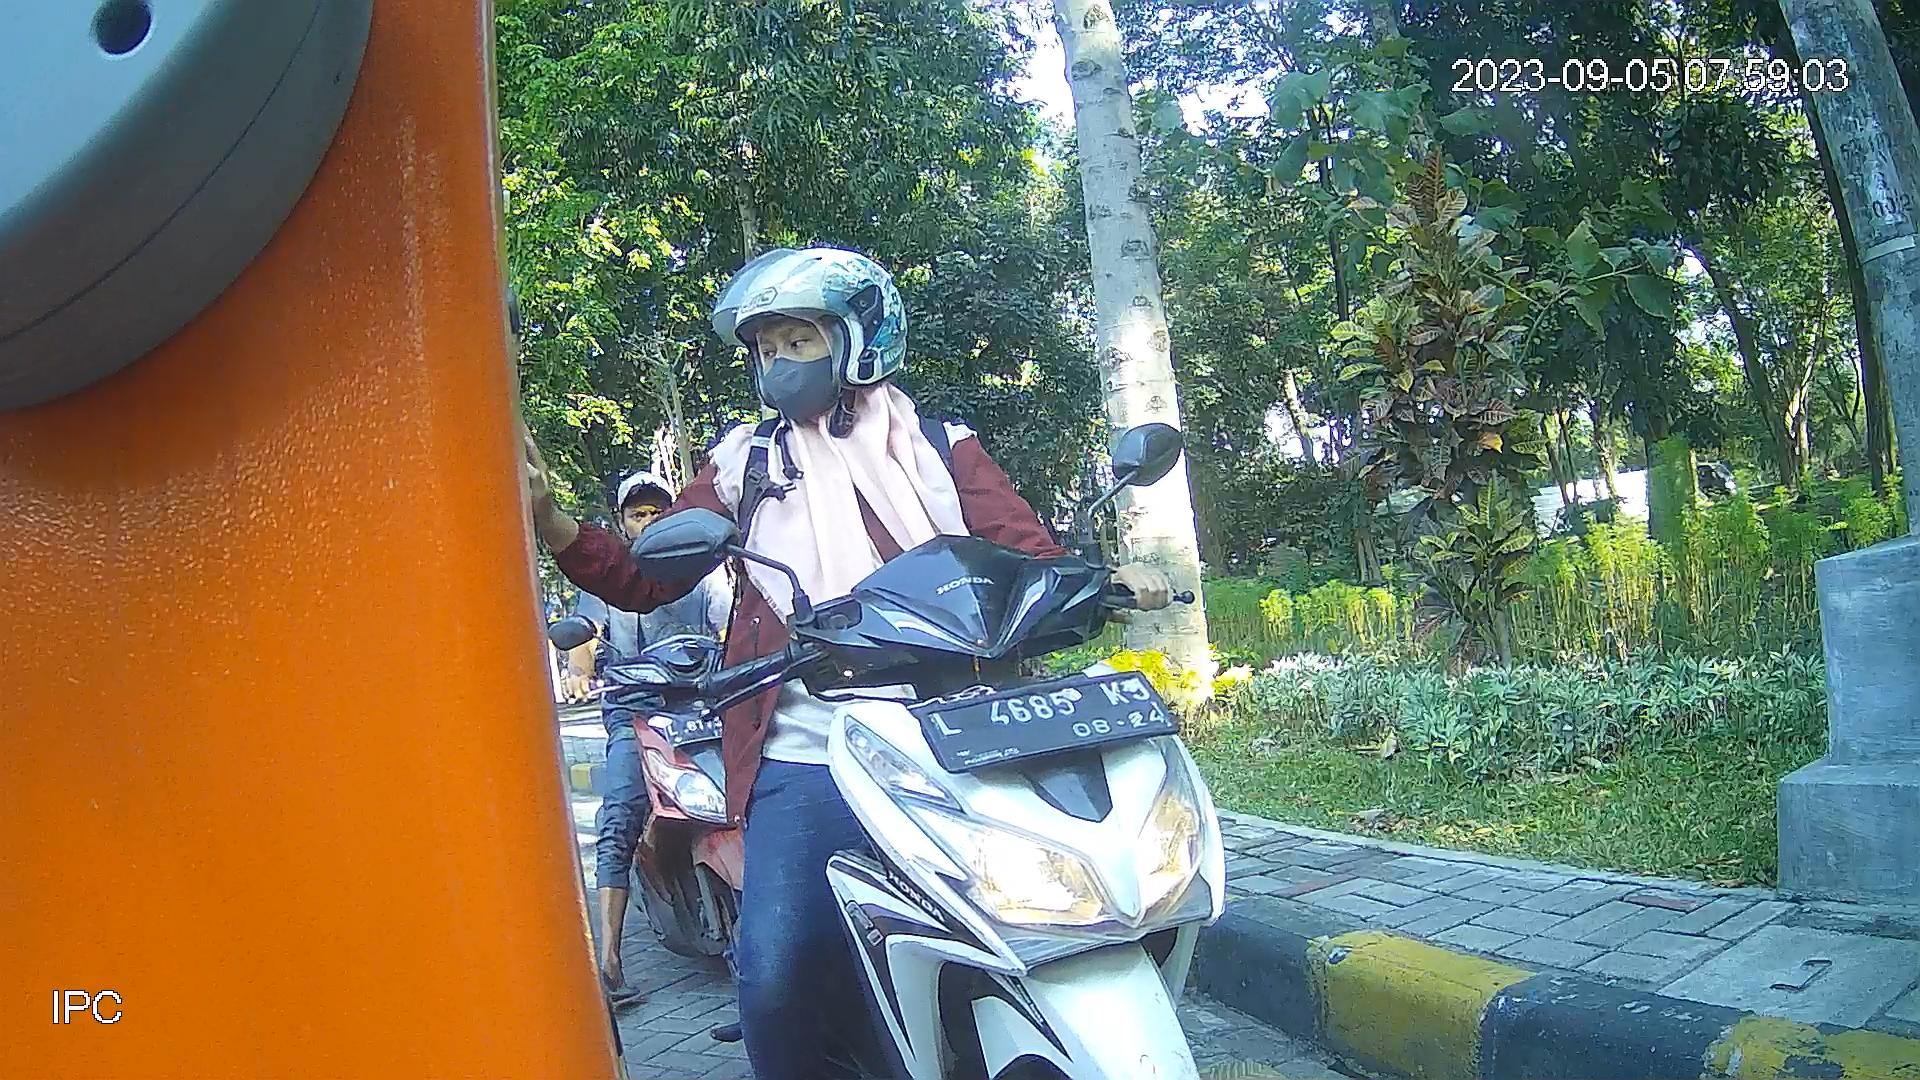plat: (911, 667, 1184, 775)
